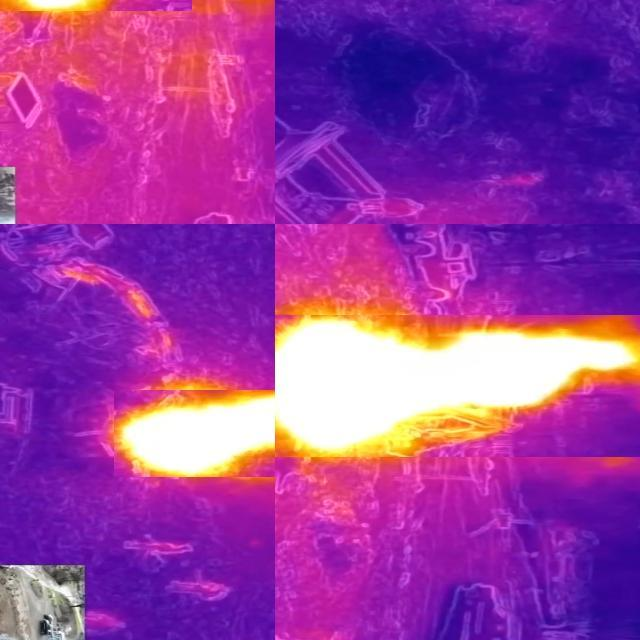fire: (276, 315, 640, 457), (114, 390, 276, 477), (4, 1, 106, 15)
